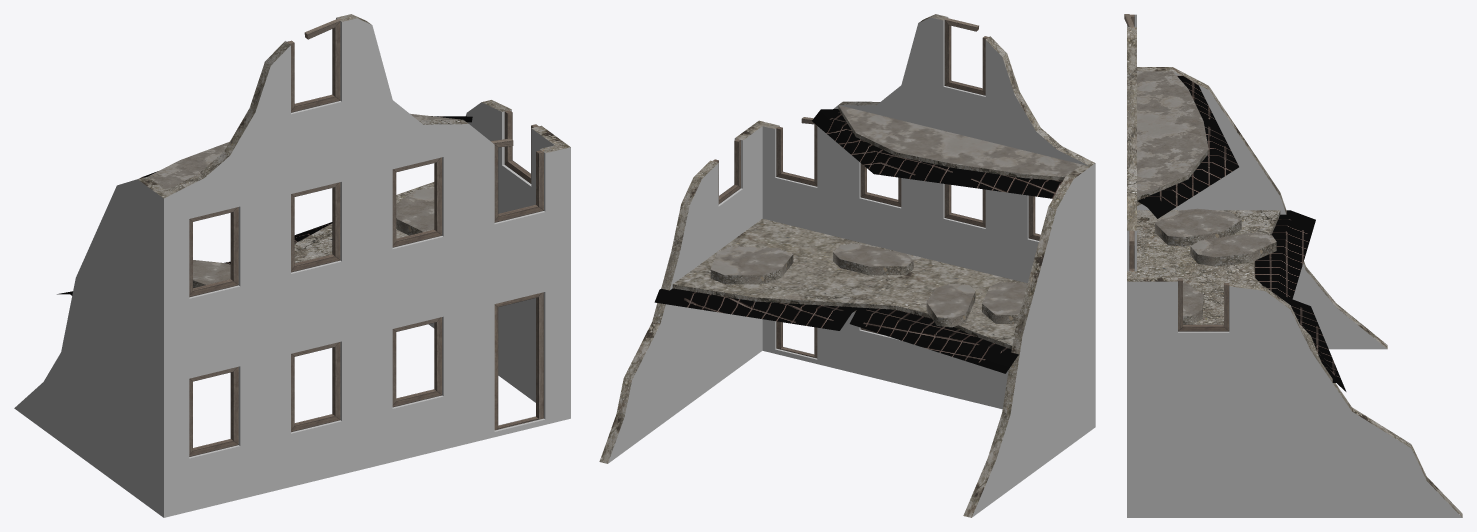
Rendered from Building_H_Destroyed.fbx.
3 renders of one model, left to right at view 1: azimuth 30°, elevation 25°; view 2: azimuth 150°, elevation 25°; view 3: azimuth 270°, elevation 25°, orthographic. The views are drawn at different scales.
Visible parts, largest first — view 1: Walls, Windows, Broken_Concrete, Rubble, Floor_Top, Floor_Bottom; view 2: Walls, Rebar, Broken_Concrete, Floor_Bottom, Floor_Top, Rubble, Windows; view 3: Walls, Rebar, Broken_Concrete, Floor_Top, Floor_Bottom, Rubble, Windows.
Boxes of the visible parts, <box> form: Walls: <box>14,18,570,517</box>; Windows: <box>189,19,543,456</box>; Broken_Concrete: <box>138,14,570,287</box>; Rubble: <box>193,188,434,284</box>; Floor_Top: <box>148,113,460,189</box>; Floor_Bottom: <box>294,182,434,263</box>; Walls: <box>608,17,1095,517</box>; Rebar: <box>654,109,1062,373</box>; Broken_Concrete: <box>599,14,1094,517</box>; Floor_Bottom: <box>673,218,1026,345</box>; Floor_Top: <box>838,105,1081,176</box>; Rubble: <box>710,243,1027,318</box>; Windows: <box>713,18,1040,358</box>; Walls: <box>1127,14,1461,517</box>; Rebar: <box>1137,75,1346,391</box>; Broken_Concrete: <box>1127,27,1462,517</box>; Floor_Top: <box>1137,71,1208,196</box>; Floor_Bottom: <box>1137,210,1320,360</box>; Rubble: <box>1155,208,1276,316</box>; Windows: <box>1124,14,1229,331</box>.
Size of the model in its own units: 800 by 850 by 662.
